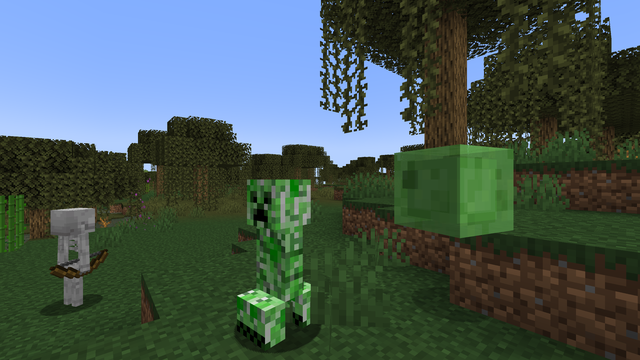creepers: (242, 171, 316, 348)
slimes: (393, 139, 508, 239)
squelettes: (50, 207, 92, 313)
